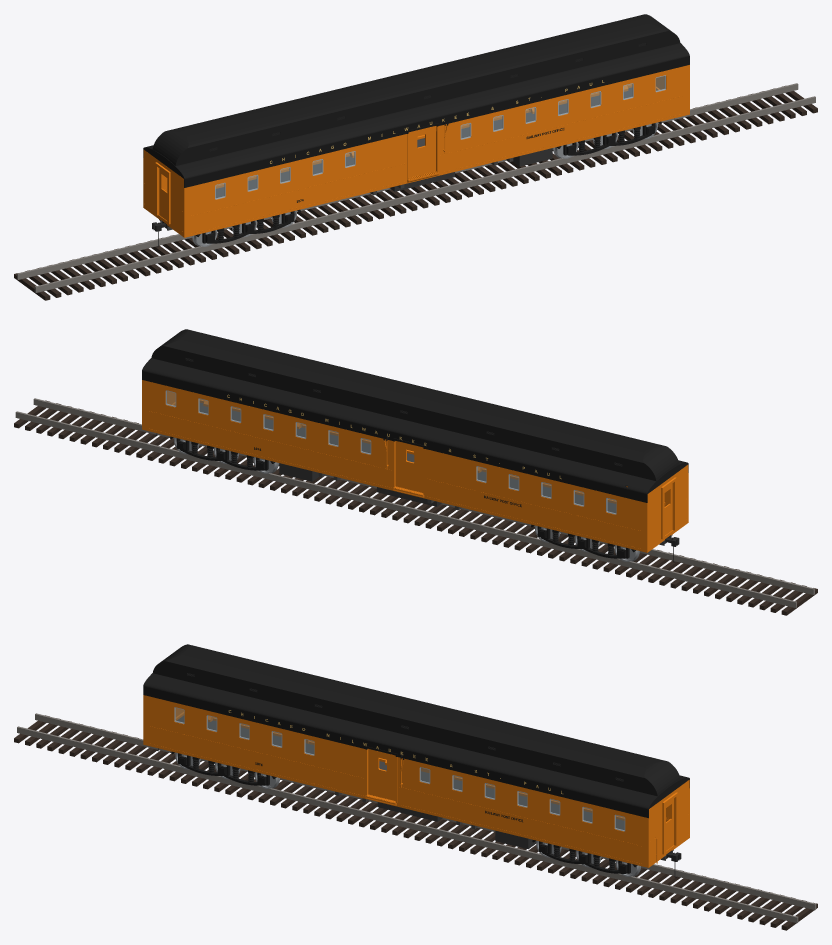
The model's file is MR1927_RPO1074.glb.
The picture shows the model from 3 angles, top to bottom: view 1: azimuth 30°, elevation 25°; view 2: azimuth 150°, elevation 25°; view 3: azimuth 330°, elevation 25°; orthographic projection.
Visible parts, largest first — view 1: roof, orange, ties, rails, maroon, trucks, glass, floor, rims, wheels, equipment; view 2: roof, orange, ties, rails, maroon, trucks, glass, floor, rims, wheels, equipment; view 3: roof, orange, ties, rails, maroon, trucks, glass, floor, rims, equipment, wheels.
Boxes of the visible parts, <box> form: roof: <box>143,14,689,179</box>; orange: <box>143,65,689,237</box>; ties: <box>14,85,817,300</box>; rails: <box>17,83,815,292</box>; maroon: <box>143,56,689,187</box>; trucks: <box>195,121,661,243</box>; glass: <box>215,76,665,198</box>; floor: <box>159,87,632,230</box>; rims: <box>215,75,665,199</box>; wheels: <box>192,122,657,246</box>; equipment: <box>390,148,552,191</box>; roof: <box>142,329,688,494</box>; orange: <box>142,380,688,552</box>; ties: <box>14,400,817,615</box>; rails: <box>15,398,814,607</box>; maroon: <box>142,371,688,502</box>; trucks: <box>170,436,635,558</box>; glass: <box>166,391,616,513</box>; floor: <box>199,402,672,545</box>; rims: <box>165,390,616,514</box>; wheels: <box>174,437,639,561</box>; equipment: <box>279,463,441,506</box>; roof: <box>143,644,689,809</box>; orange: <box>143,695,689,867</box>; ties: <box>14,715,817,930</box>; rails: <box>17,713,816,922</box>; maroon: <box>143,686,689,818</box>; trucks: <box>171,751,637,873</box>; glass: <box>175,708,624,830</box>; floor: <box>177,715,673,860</box>; rims: <box>174,707,625,831</box>; equipment: <box>377,802,536,849</box>; wheels: <box>175,752,640,876</box>.
Bounding box in the file's own units: 1.14 × 0.1609 × 0.1124.
